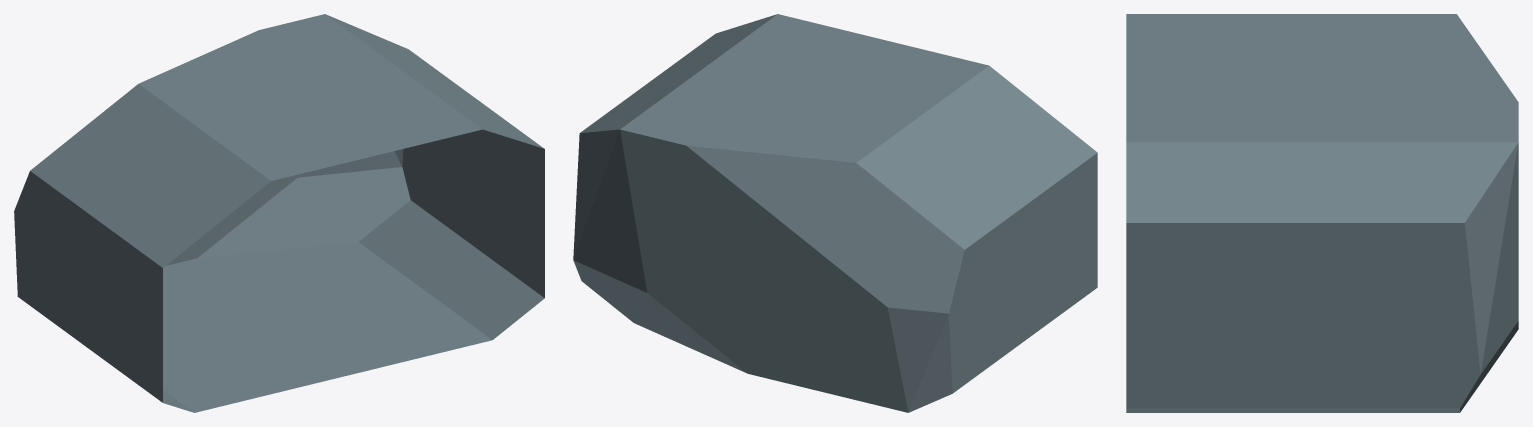
File: Stepping Stone 02.FBX
The picture shows the model from 3 angles, left to right: view 1: azimuth 30°, elevation 25°; view 2: azimuth 150°, elevation 25°; view 3: azimuth 270°, elevation 25°; orthographic projection. The views are drawn at different scales.
Visible parts, largest first — view 1: Stepping Stone 02; view 2: Stepping Stone 02; view 3: Stepping Stone 02.
Boxes of the visible parts, x1=… form: Stepping Stone 02: x1=14, y1=14, x2=544, y2=412; Stepping Stone 02: x1=573, y1=14, x2=1097, y2=412; Stepping Stone 02: x1=1126, y1=14, x2=1518, y2=412.
Size of the model in its own units: 140 by 100 by 74.53.
